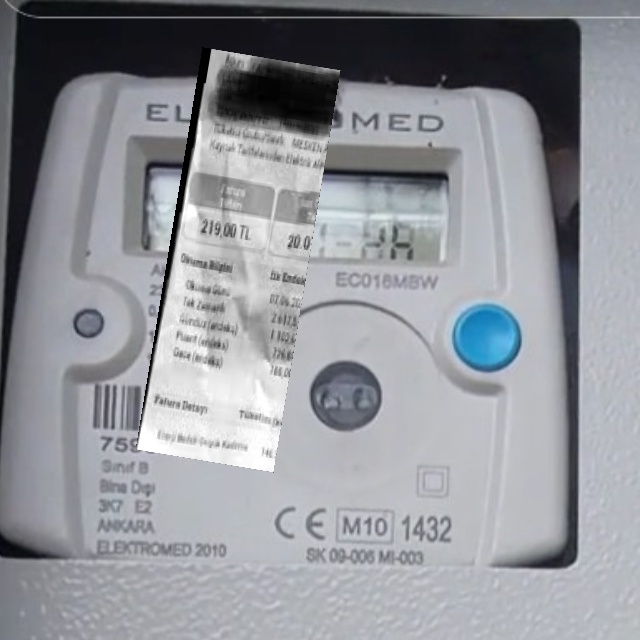electricity-bill: (136, 47, 340, 473)
